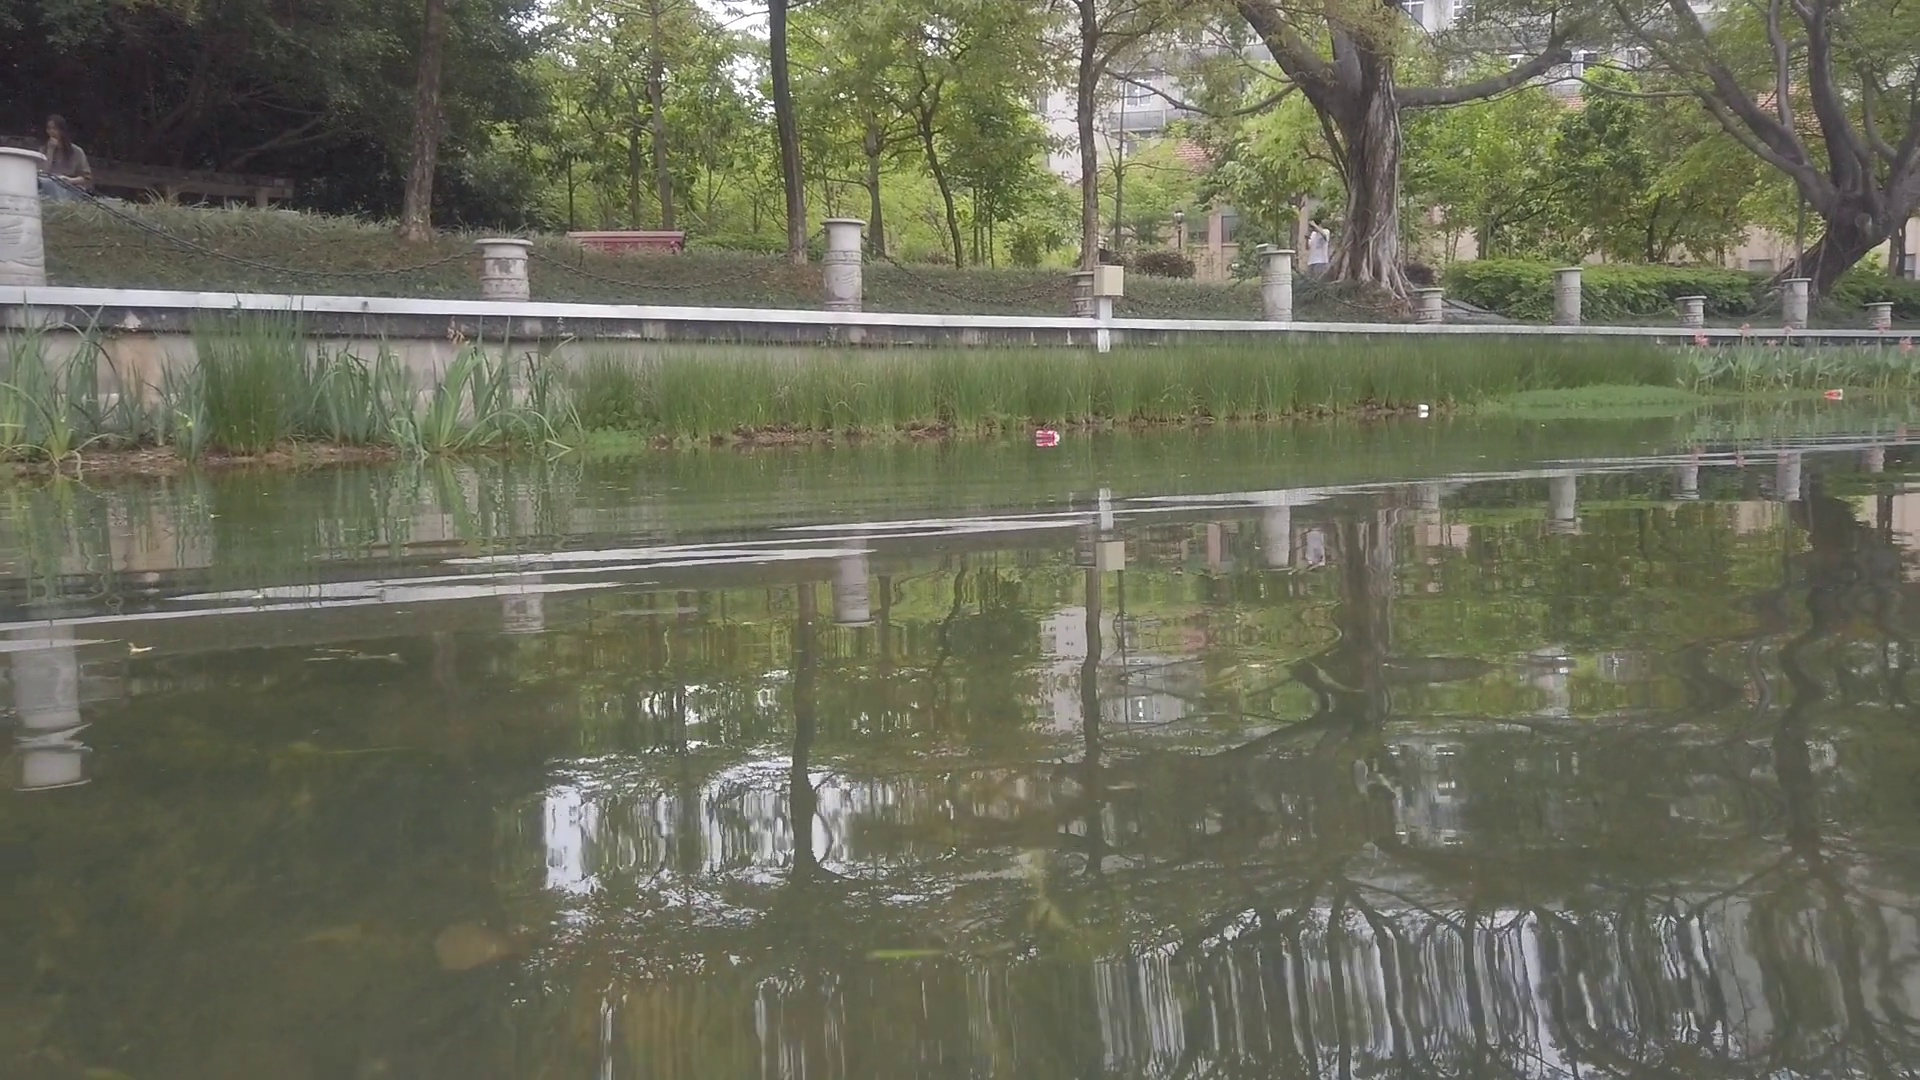bottle: (1035, 429, 1060, 440), (1824, 389, 1844, 397)
carton: (1419, 404, 1429, 414)
